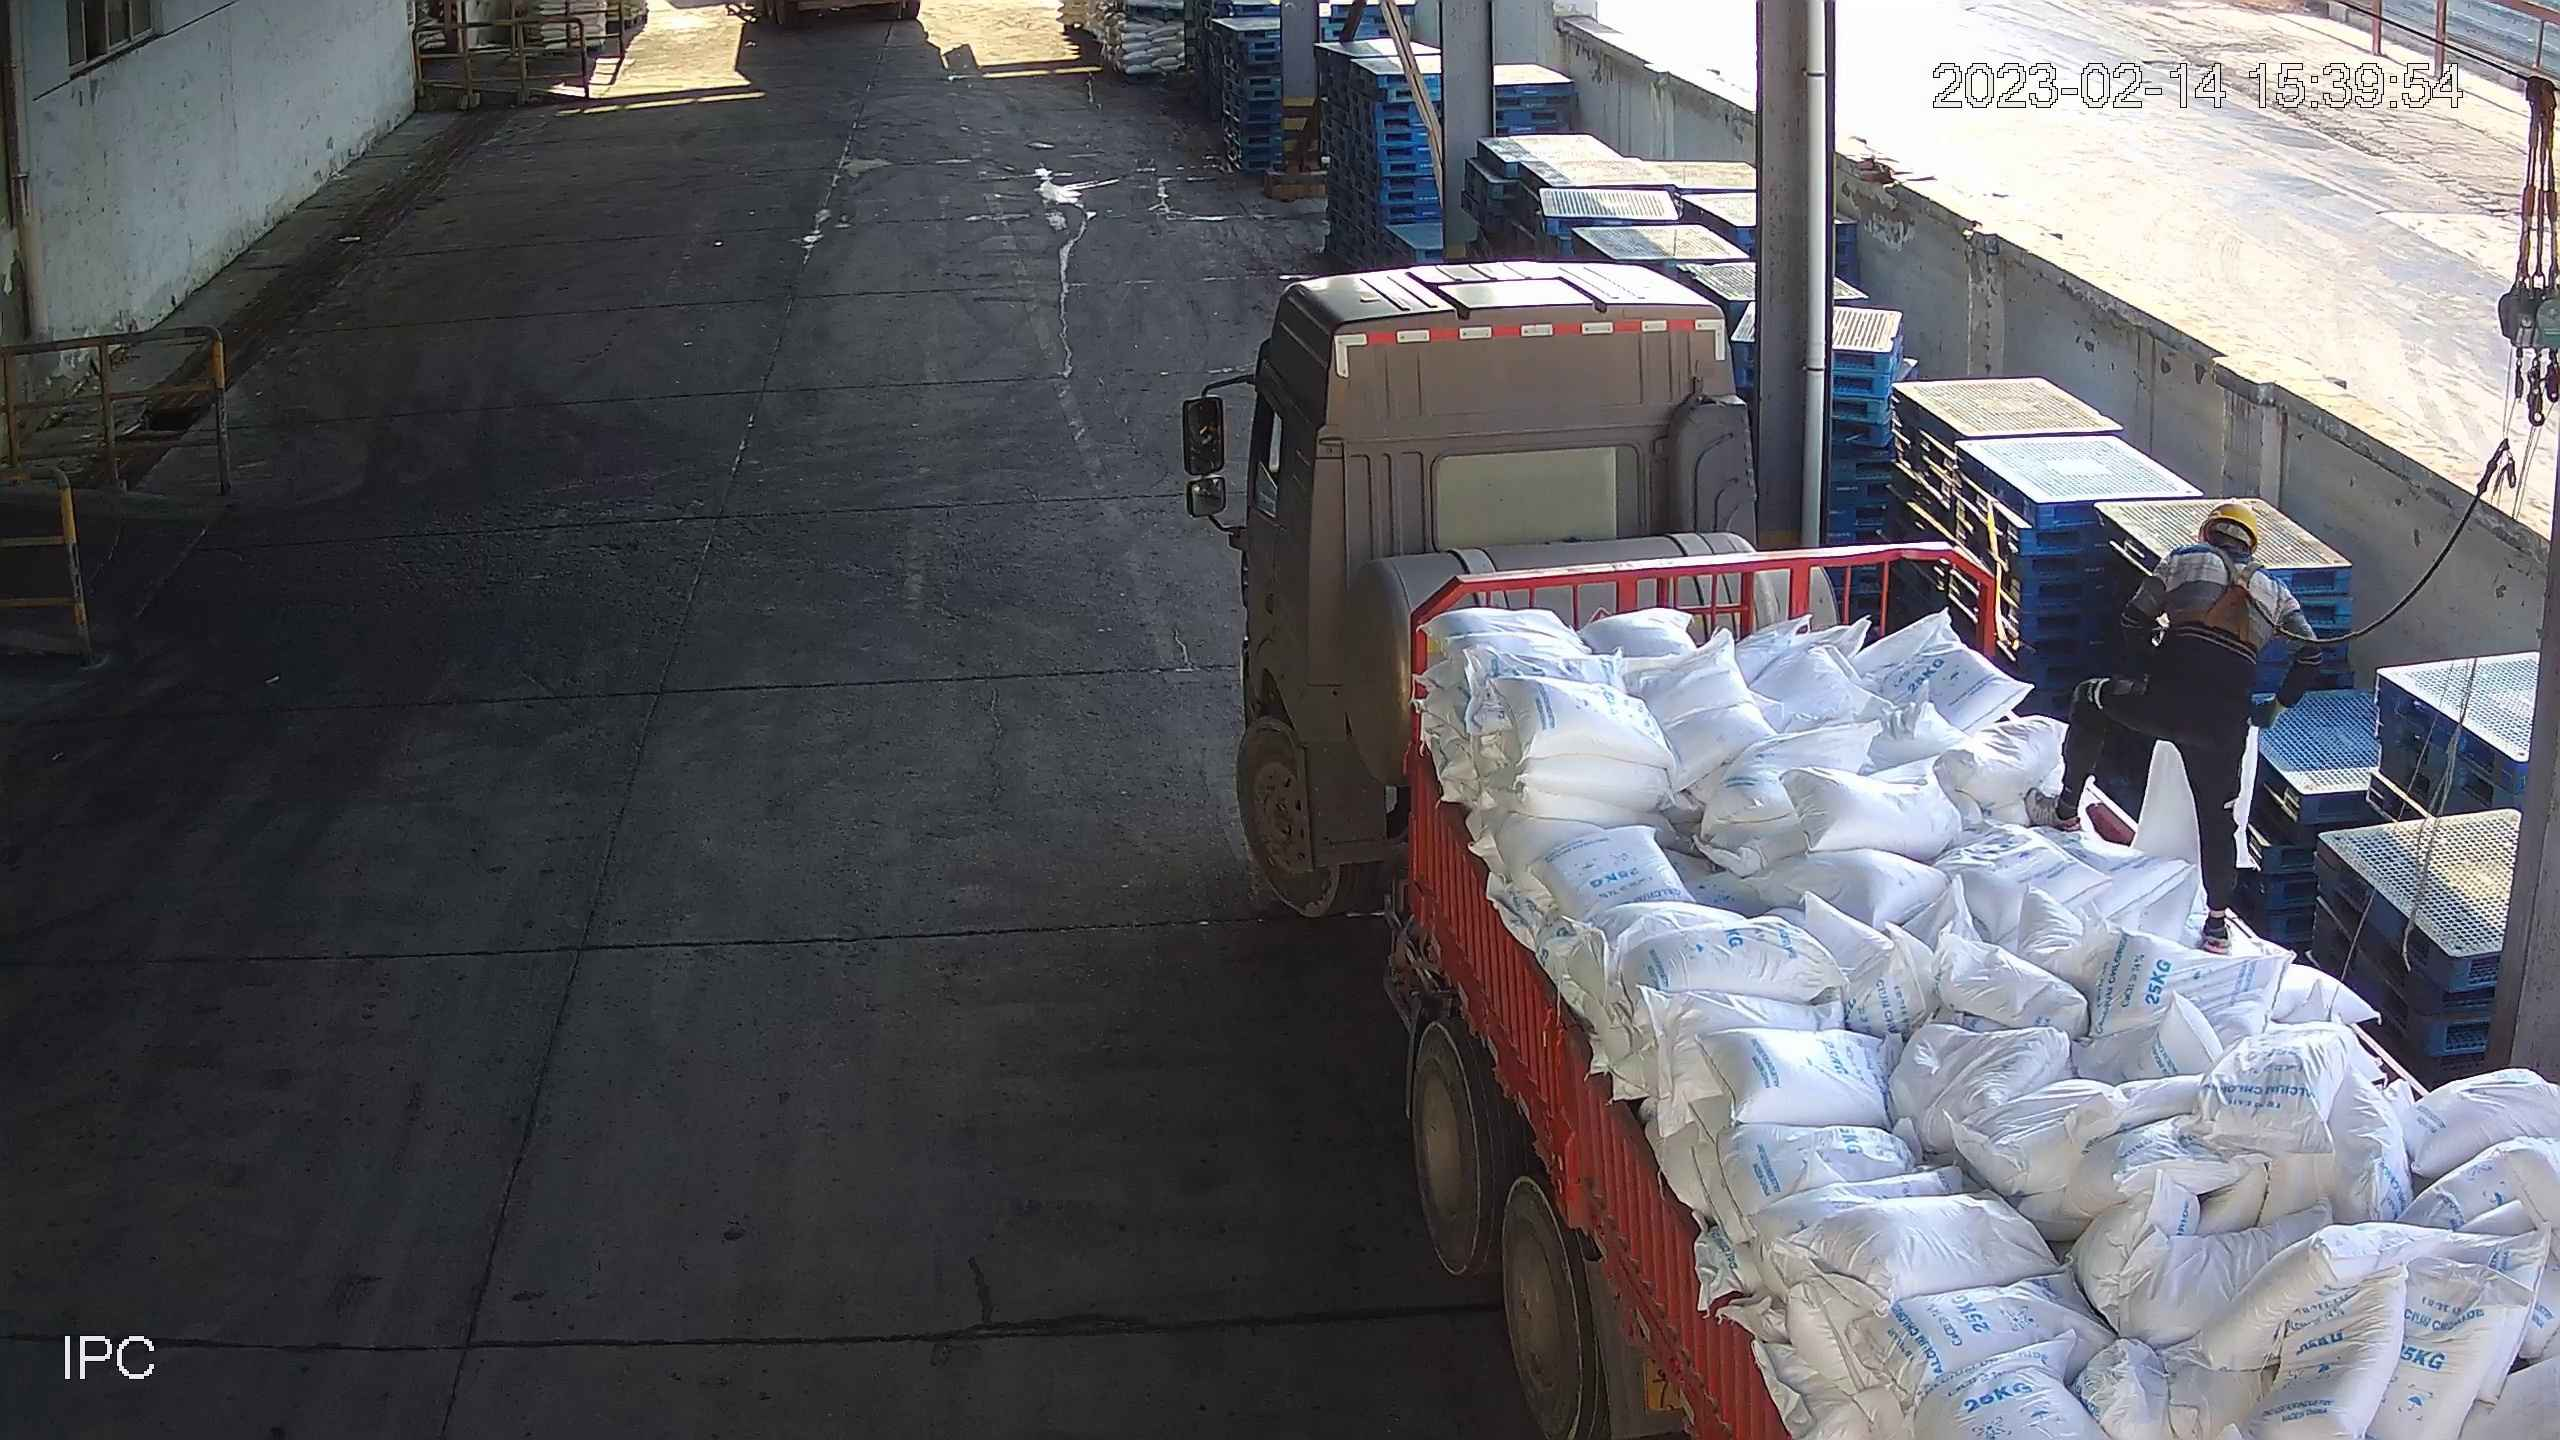belt: (2176, 554, 2278, 639)
head: (2163, 499, 2292, 609)
helmet: (2200, 497, 2267, 551)
people: (2021, 495, 2314, 960)
truck: (1174, 251, 2560, 1440)
